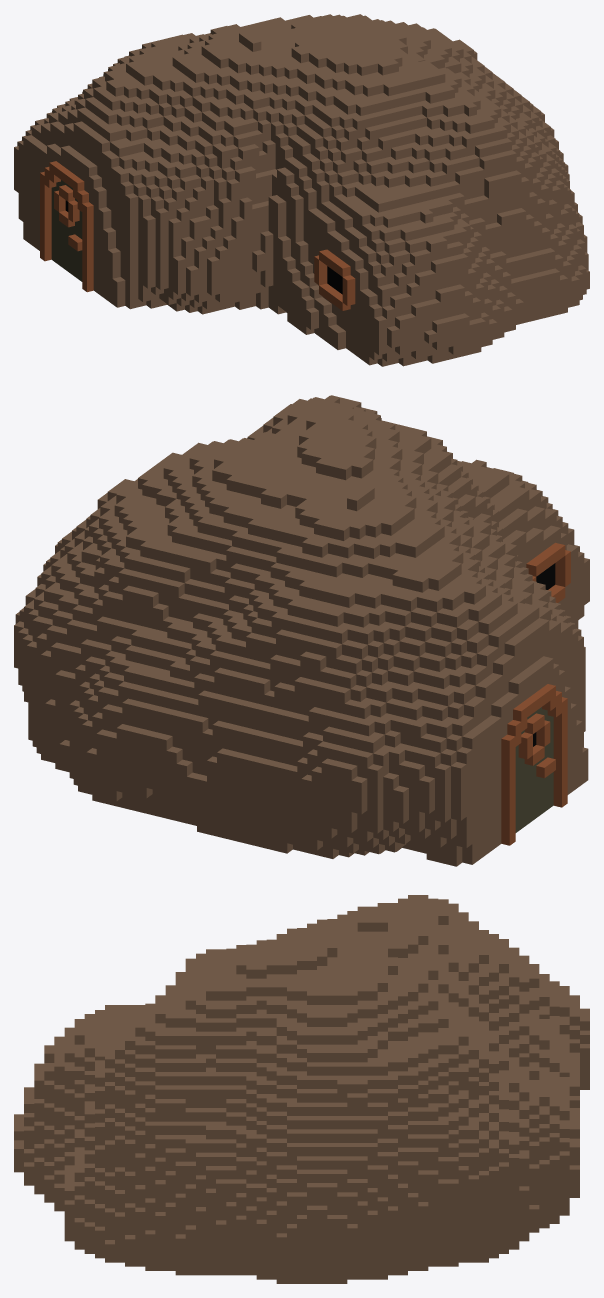
The model's file is StoneHouse3.fbx.
The picture shows the model from 3 angles, top to bottom: view 1: azimuth 30°, elevation 25°; view 2: azimuth 150°, elevation 25°; view 3: azimuth 270°, elevation 25°; orthographic projection. The views are drawn at different scales.
Visible parts, largest first — view 1: Cube.077; view 2: Cube.077; view 3: Cube.077.
Part boxes in pixels (left/top/right/bottom): Cube.077: left=14, top=14, right=589, bottom=366; Cube.077: left=14, top=395, right=589, bottom=866; Cube.077: left=14, top=895, right=589, bottom=1283.
Size of the model in its own units: 565 by 262 by 598.
